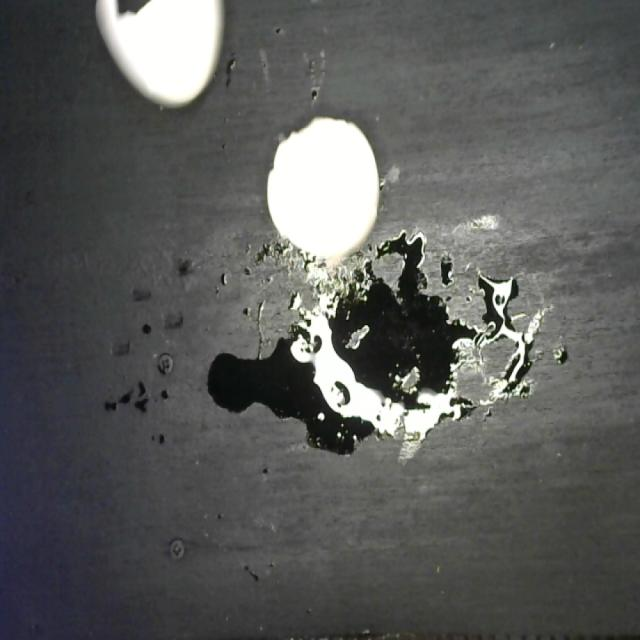biodegradable: (87, 0, 383, 268)
